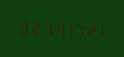four: (50, 19, 60, 36)
one: (61, 19, 71, 37), (94, 21, 104, 38)
seven: (39, 19, 49, 36), (72, 20, 82, 37)
two: (28, 18, 38, 36), (83, 20, 93, 38)
zero: (17, 18, 27, 35)
